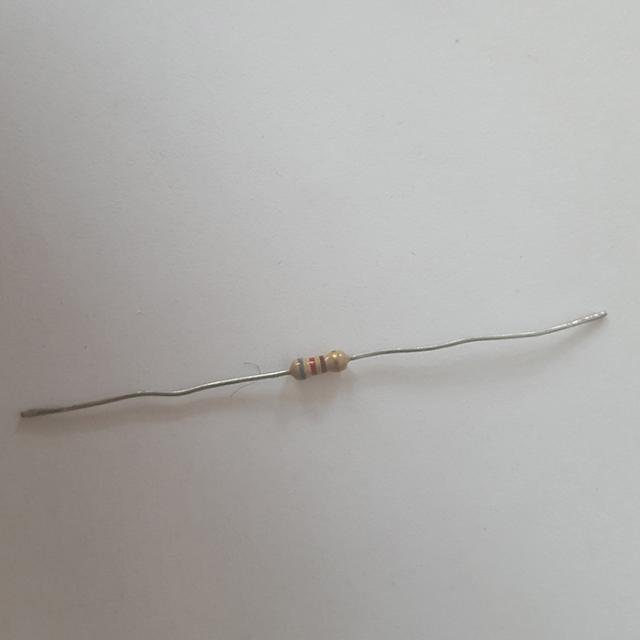brown: (320, 356, 327, 374)
gold: (332, 352, 340, 371)
grey: (298, 359, 306, 378)
red: (310, 358, 317, 374)
resistor: (288, 348, 349, 381)
